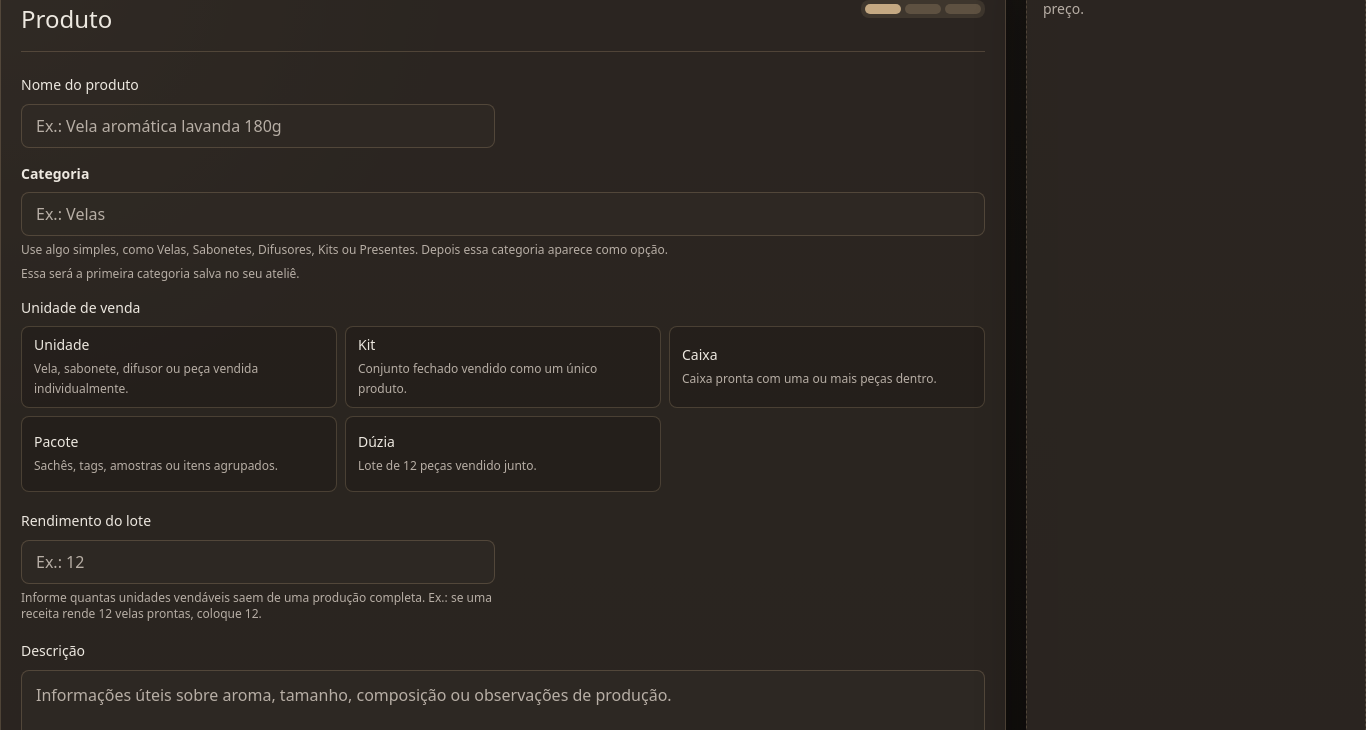
Test: ProductForm › shows a loading screen when advancing to the next step
Type "Vela teste" into the field labelled "Nome do produto" at (258, 126), box [21,104,495,148]
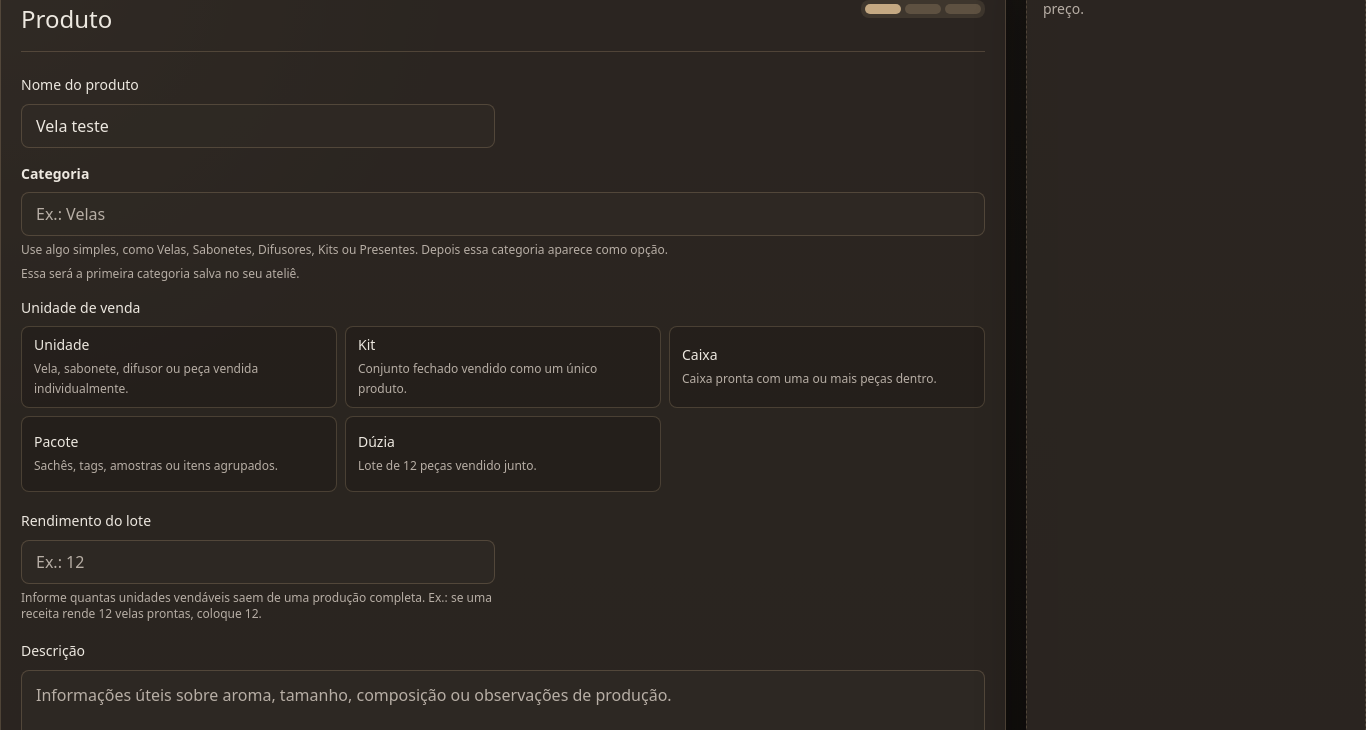
Click the radio button labelled "Unidade" at (179, 367), box [21,326,337,408]
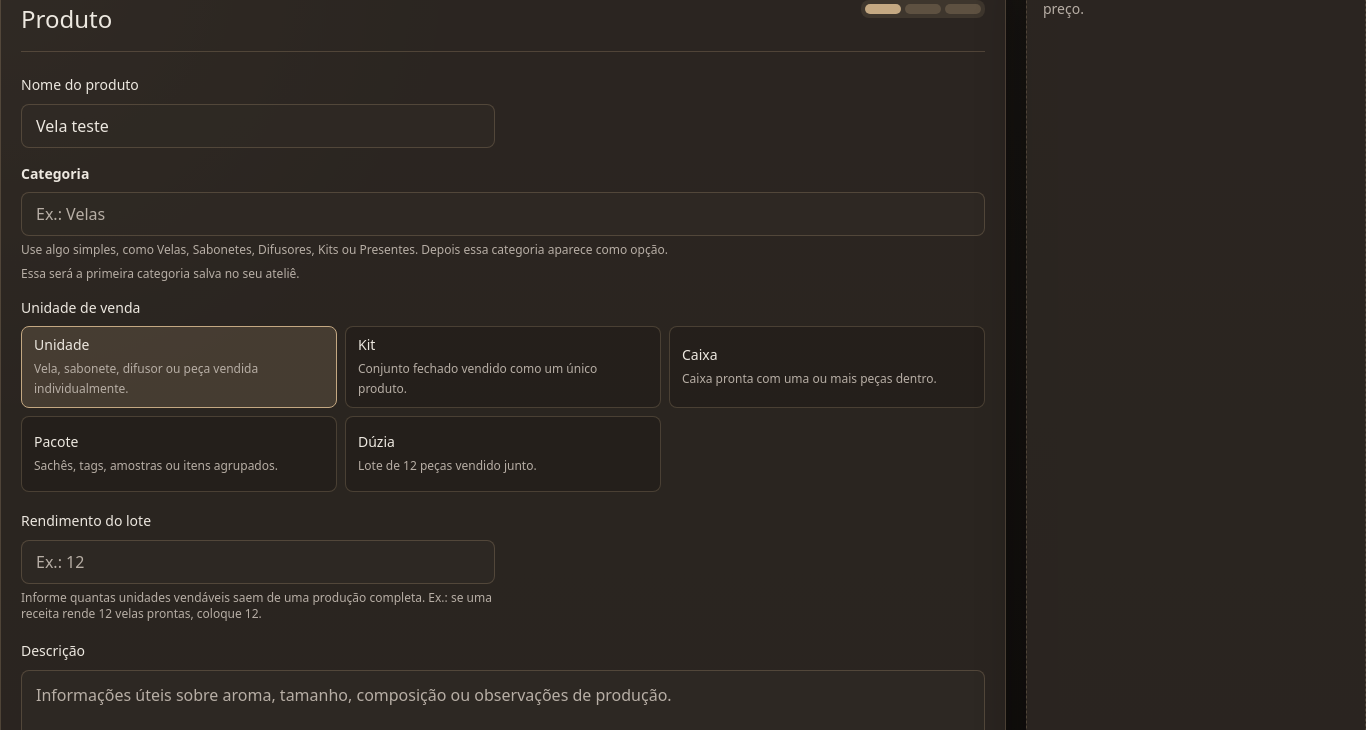
Type "12" into the field with placeholder "Ex.: 12" at (258, 562), box [21,540,495,584]
(page scrolled)
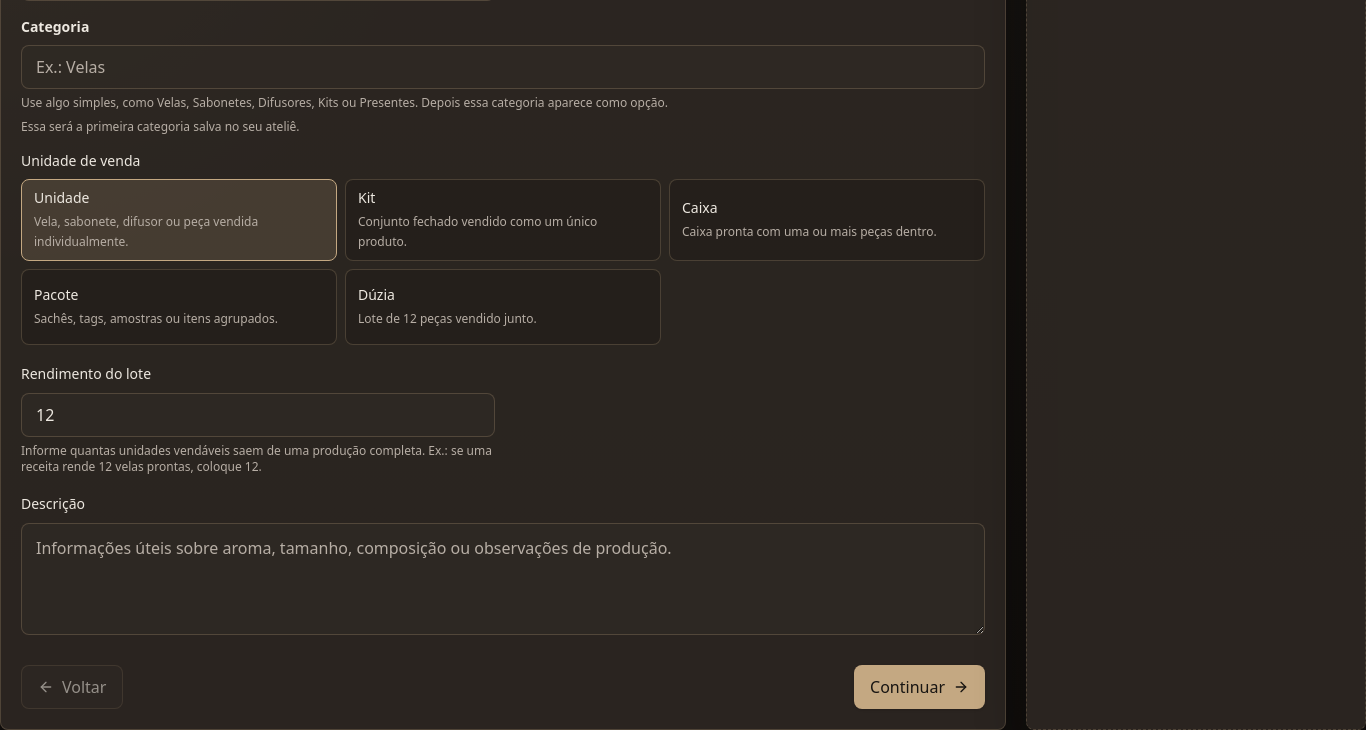
Click the button "Continuar" at (920, 687), box [854,665,985,709]
(page scrolled)
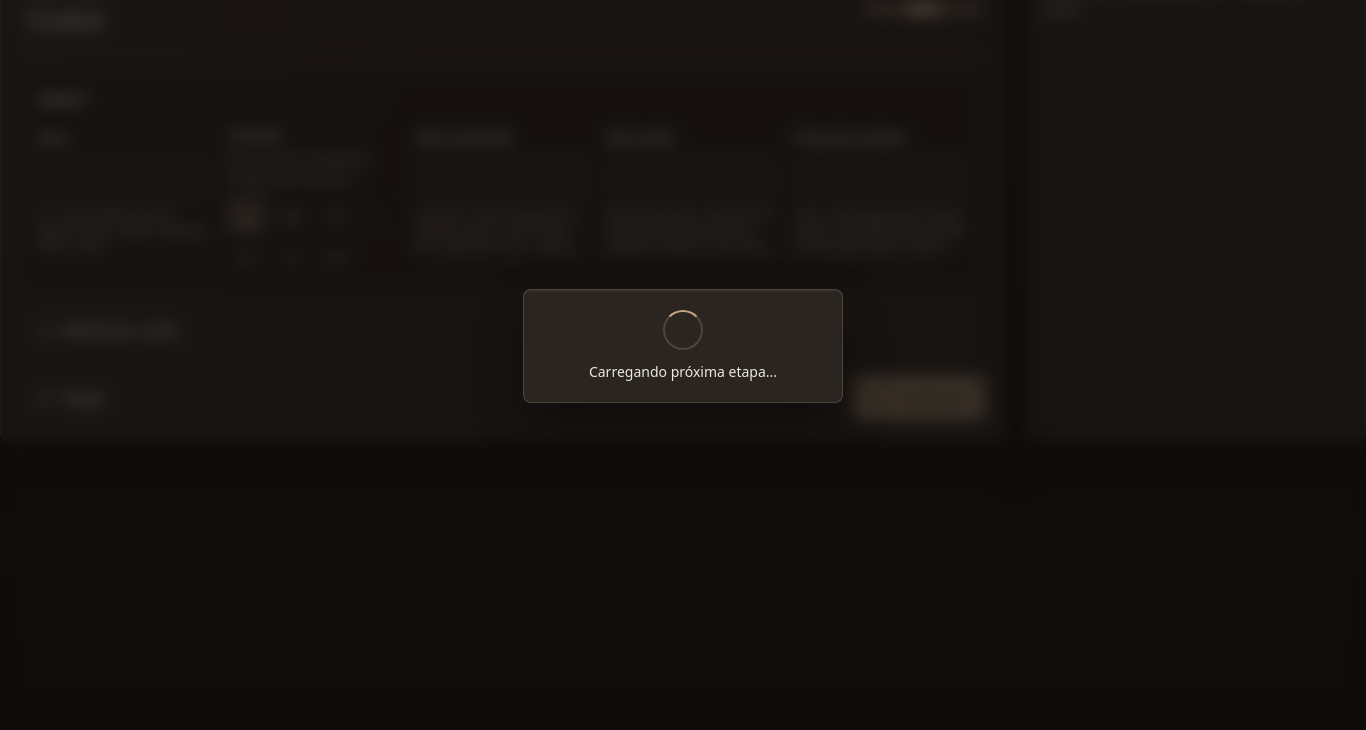
expect the message reads "Carregando próxima etapa...": met, box [589,362,777,381]
